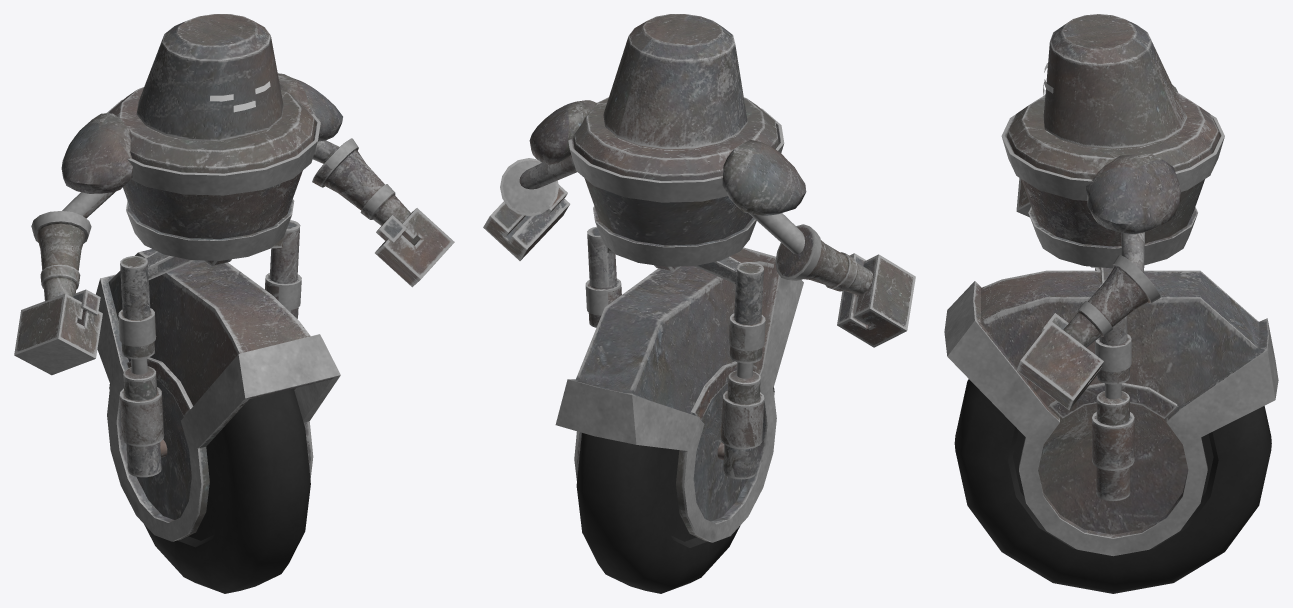
The model's file is kall-e.fbx.
3 views of the same model, side by side, from view 1: azimuth 30°, elevation 25°; view 2: azimuth 150°, elevation 25°; view 3: azimuth 270°, elevation 25° (orthographic).
Parts seen in each view (by area): view 1: kall-e.008, kall-e.011, kall-e.007, kall-e.009, kall-e.010, kall-e.012; view 2: kall-e.008, kall-e.011, kall-e.007, kall-e.009, kall-e.010, kall-e.012; view 3: kall-e.011, kall-e.008, kall-e.007, kall-e.009, kall-e.010, kall-e.012.
Part boxes in pixels (left/top/right/bottom): kall-e.008: left=106, top=14, right=320, bottom=266; kall-e.011: left=96, top=249, right=340, bottom=541; kall-e.007: left=109, top=384, right=310, bottom=593; kall-e.009: left=14, top=138, right=454, bottom=375; kall-e.010: left=118, top=220, right=301, bottom=477; kall-e.012: left=61, top=73, right=342, bottom=193; kall-e.008: left=568, top=14, right=784, bottom=271; kall-e.011: left=555, top=247, right=803, bottom=542; kall-e.007: left=576, top=387, right=774, bottom=593; kall-e.009: left=483, top=155, right=915, bottom=347; kall-e.010: left=585, top=226, right=765, bottom=479; kall-e.012: left=529, top=100, right=806, bottom=215; kall-e.011: left=944, top=270, right=1278, bottom=556; kall-e.008: left=1001, top=14, right=1224, bottom=268; kall-e.007: left=954, top=379, right=1271, bottom=593; kall-e.009: left=1016, top=178, right=1160, bottom=410; kall-e.010: left=1092, top=267, right=1134, bottom=501; kall-e.012: left=1086, top=84, right=1180, bottom=234.
Size of the model in its own units: 120 by 147 by 80.42.
